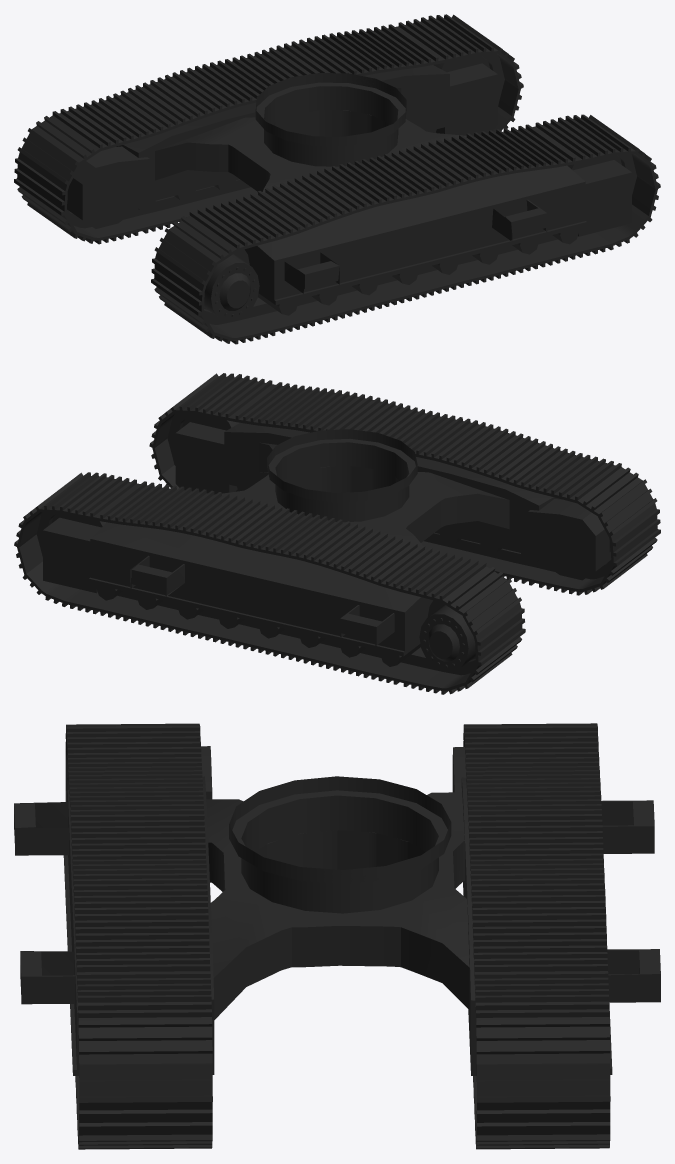
File: zx200-crawler.dae
3 views of the same model, one above another, from view 1: azimuth 30°, elevation 25°; view 2: azimuth 150°, elevation 25°; view 3: azimuth 270°, elevation 25° (orthographic). The views are drawn at different scales.
Visible parts, largest first — view 1: crawler.004; view 2: crawler.004; view 3: crawler.004.
Part boxes in pixels (x1=…): crawler.004: x1=14, y1=14, x2=660, y2=344; crawler.004: x1=14, y1=373, x2=660, y2=694; crawler.004: x1=14, y1=723, x2=660, y2=1149.
Bounding box in the file's own units: 4.35 × 3.58 × 1.12.
1 material, 1 textured.
